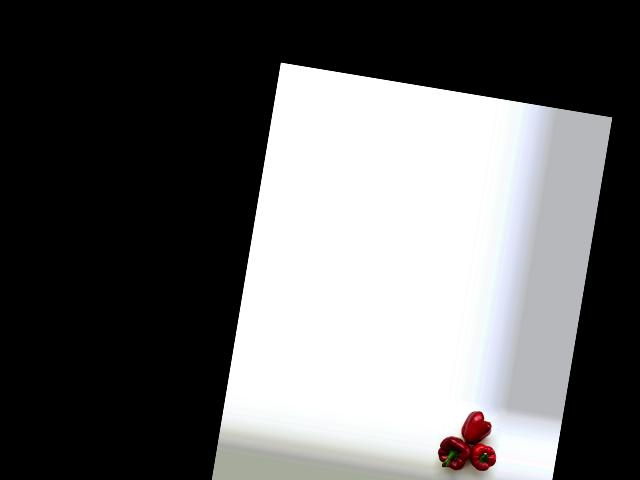bell_pepper: (456, 404, 500, 449)
